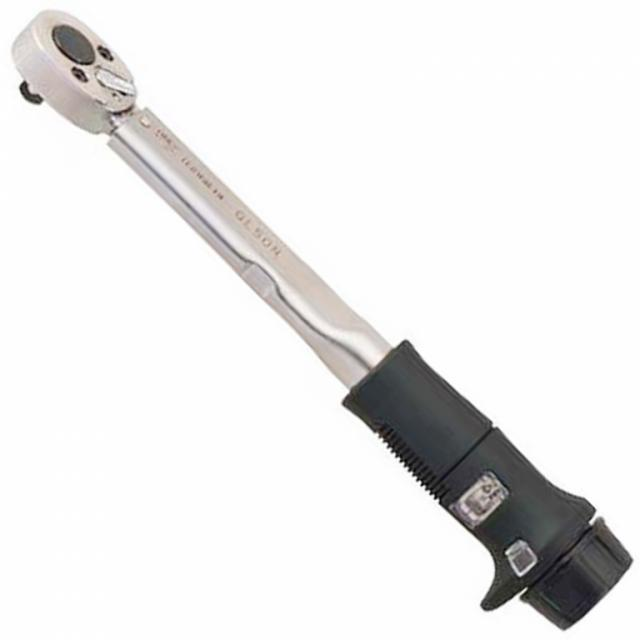wrench: (10, 4, 638, 633)
